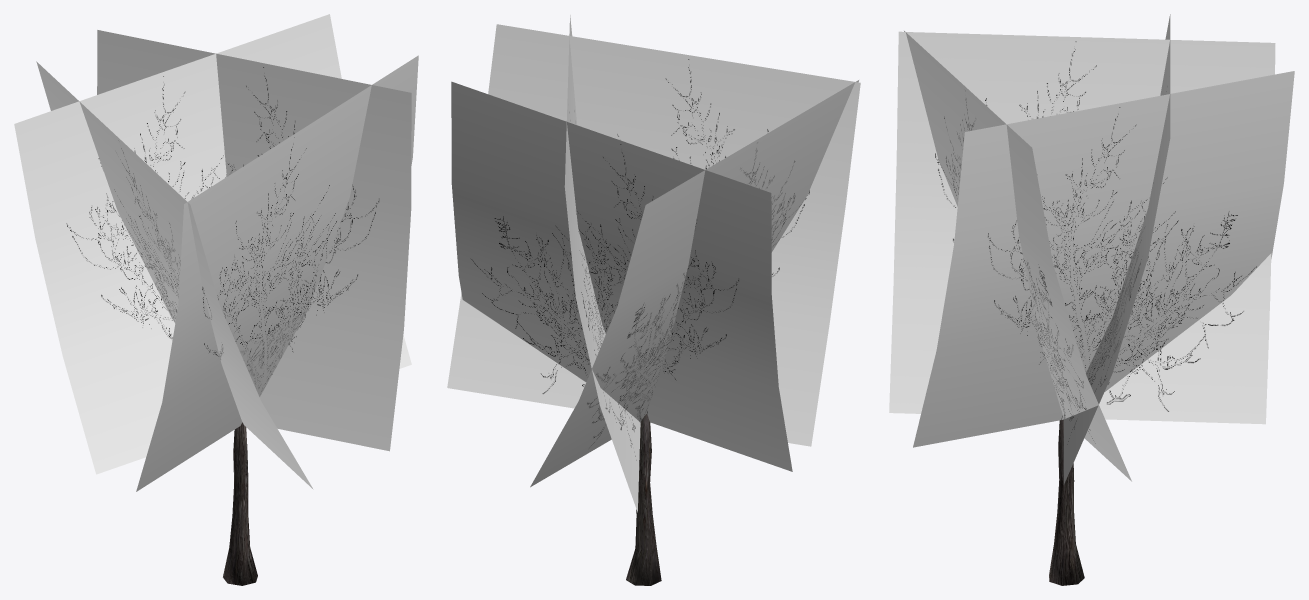
File: RedLightGreenLight_Asset_Tree.glb
The picture shows the model from 3 angles, left to right: view 1: azimuth 30°, elevation 25°; view 2: azimuth 150°, elevation 25°; view 3: azimuth 270°, elevation 25°; orthographic projection. The views are drawn at different scales.
Parts seen in each view (by area): view 1: tree; view 2: tree; view 3: tree.
Part boxes in pixels (box(x1,y1,x2,y2)): tree: box(14, 14, 418, 585); tree: box(447, 15, 860, 585); tree: box(889, 14, 1294, 585).
Size of what is drawn, in the model's own units: 14.73 by 20.15 by 14.47.
2 materials, 2 textured.
